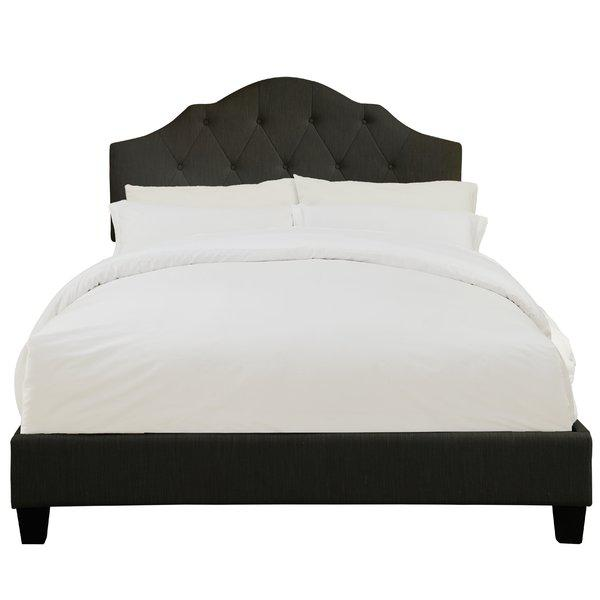bed: (11, 72, 597, 574)
